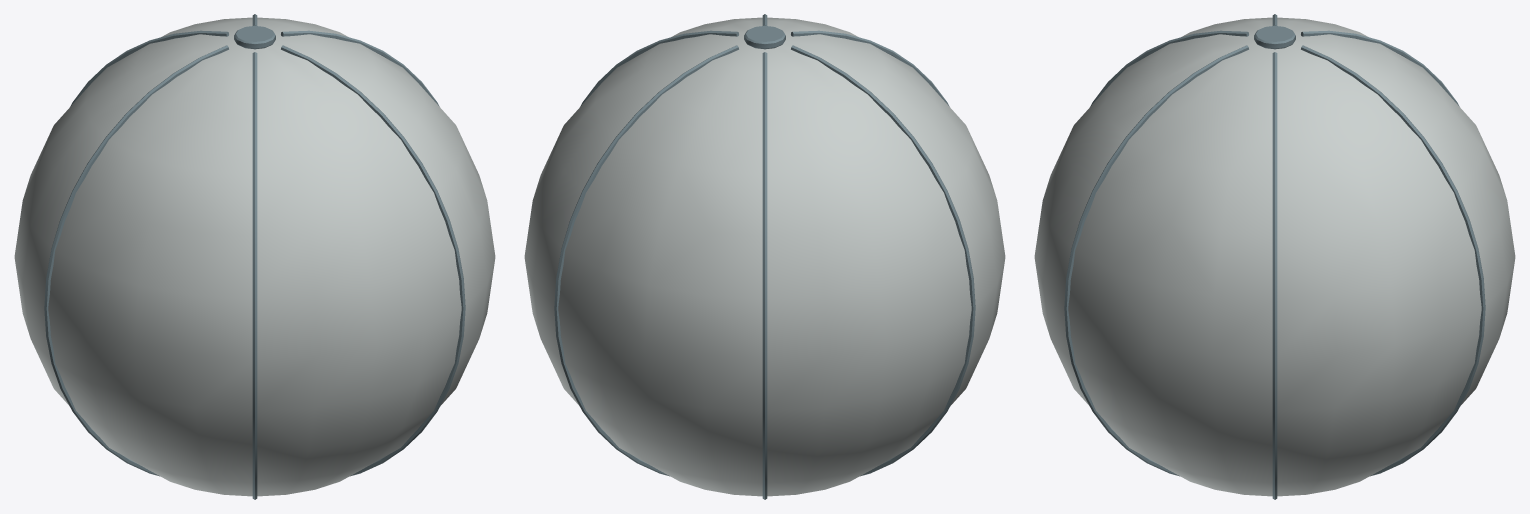
Rendered from beach-ball.glb.
The picture shows the model from 3 angles, left to right: view 1: azimuth 30°, elevation 25°; view 2: azimuth 150°, elevation 25°; view 3: azimuth 270°, elevation 25°; orthographic projection.
Parts seen in each view (by area): view 1: inflated_ball, panel_seam.001, panel_seam.003, panel_seam.002, air_valve, panel_seam, panel_seam.004; view 2: inflated_ball, panel_seam.003, panel_seam.005, panel_seam.004, air_valve, panel_seam, panel_seam.002; view 3: inflated_ball, panel_seam.001, panel_seam.005, panel_seam, air_valve, panel_seam.002, panel_seam.004.
Boxes of the visible parts, x1,y1,x2,y2 form: inflated_ball: (14,17,495,496); panel_seam.001: (281,45,465,476); panel_seam.003: (44,45,228,476); panel_seam.002: (252,52,257,499); air_valve: (234,26,275,49); panel_seam: (281,30,439,106); panel_seam.004: (70,30,228,106); inflated_ball: (524,17,1005,496); panel_seam.003: (791,45,975,476); panel_seam.005: (554,45,738,476); panel_seam.004: (762,52,767,499); air_valve: (744,26,785,49); panel_seam: (580,30,738,106); panel_seam.002: (791,30,949,106); inflated_ball: (1034,17,1515,496); panel_seam.001: (1064,45,1248,476); panel_seam.005: (1301,45,1485,476); panel_seam: (1272,52,1277,499); air_valve: (1254,26,1295,49); panel_seam.002: (1090,30,1248,106); panel_seam.004: (1301,30,1459,106).
Size of the model in its own units: 0.3034 by 0.3039 by 0.3.
